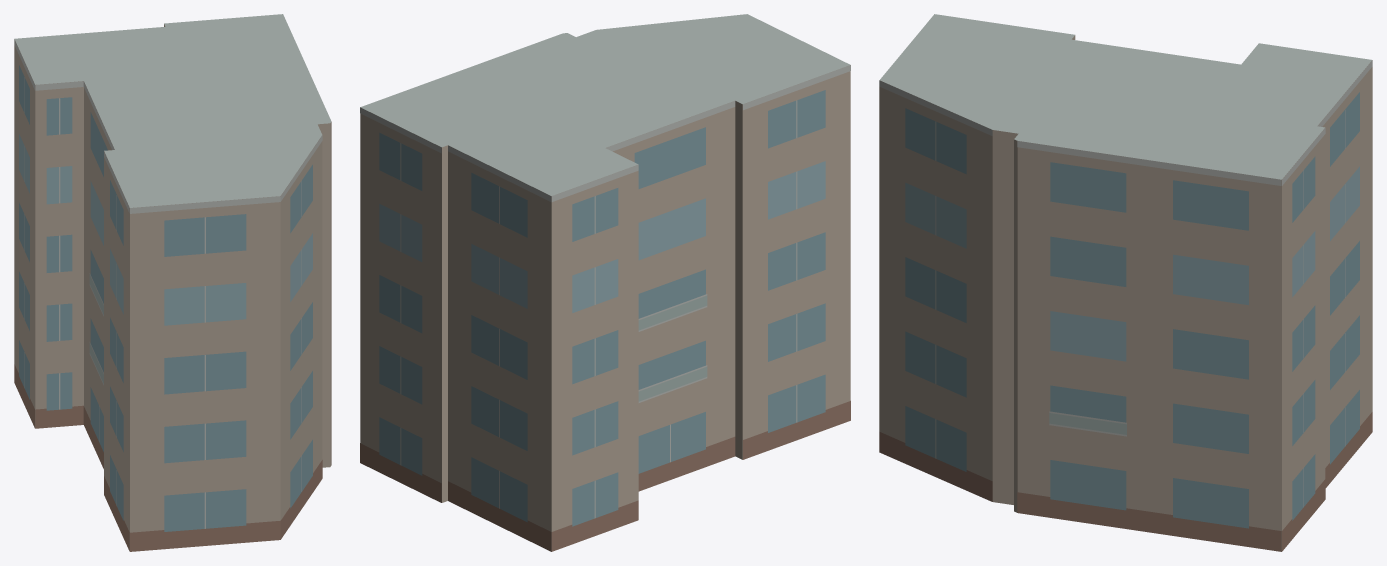
File: survey-upis-33012278.glb
3 renders of one model, left to right at view 1: azimuth 30°, elevation 25°; view 2: azimuth 150°, elevation 25°; view 3: azimuth 270°, elevation 25°, orthographic. The views are drawn at different scales.
Visible parts, largest first — view 1: survey-upis-33012278.tmp; view 2: survey-upis-33012278.tmp; view 3: survey-upis-33012278.tmp.
Boxes of the visible parts, <box> form: survey-upis-33012278.tmp: <box>14,14,331,551</box>; survey-upis-33012278.tmp: <box>360,14,850,551</box>; survey-upis-33012278.tmp: <box>879,14,1372,551</box>.
Size of the model in its own units: 13.47 by 14.1 by 16.94.
